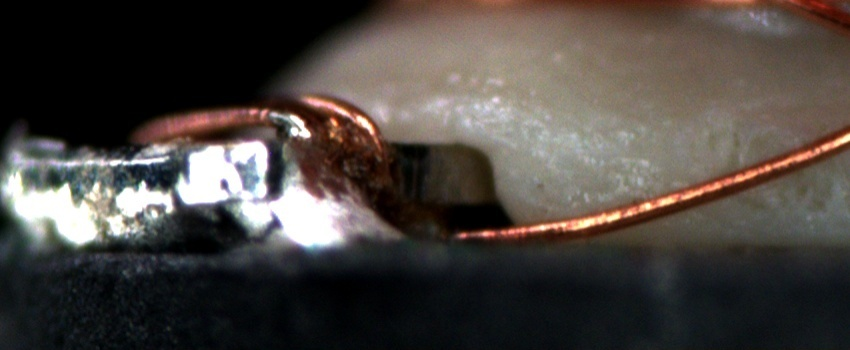TE: (130, 84, 393, 182)
